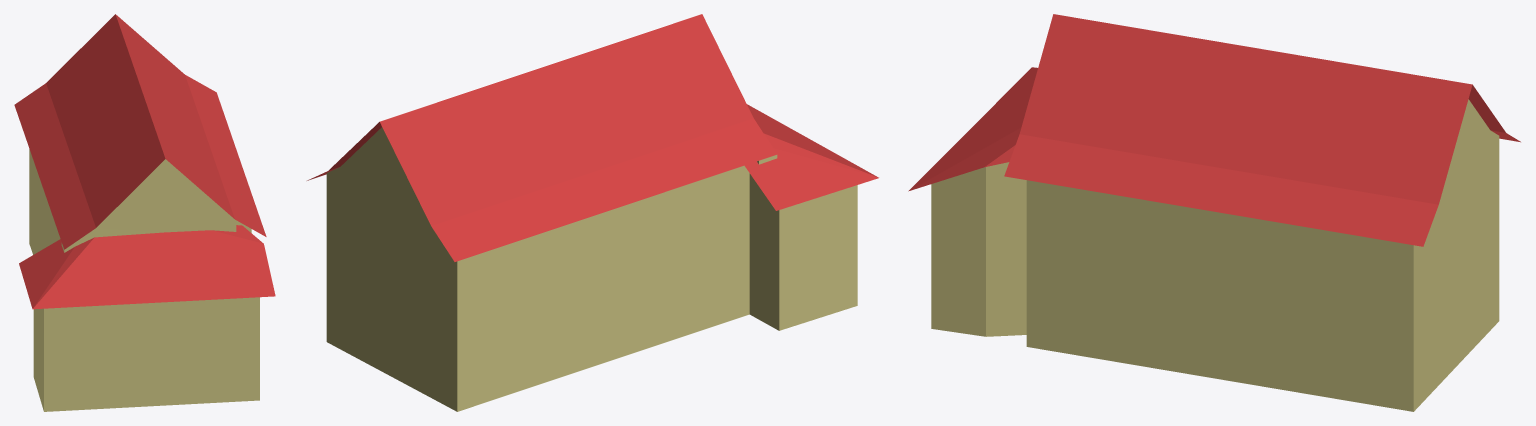
3 views of the same model, side by side, from view 1: azimuth 30°, elevation 25°; view 2: azimuth 150°, elevation 25°; view 3: azimuth 270°, elevation 25° (orthographic). The views are drawn at different scales.
Size of the model in its own units: 21.9 by 26.73 by 13.68.
